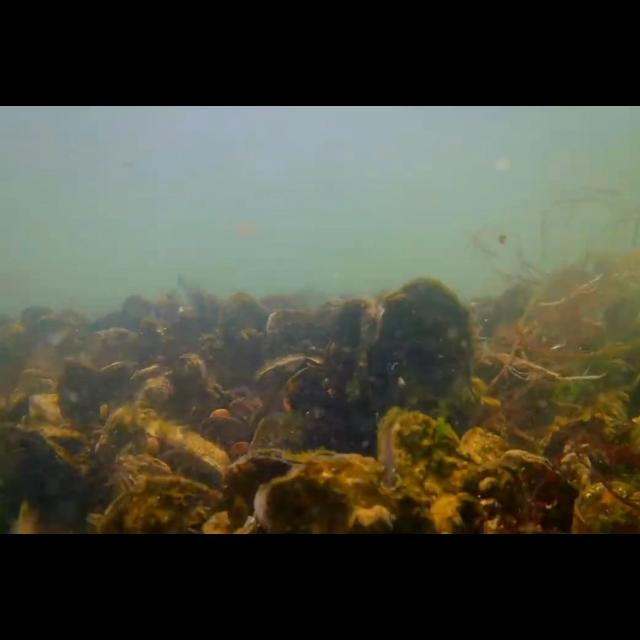Oyster-Closed: (379, 276, 473, 426), (0, 427, 86, 535), (478, 449, 580, 535), (325, 296, 385, 414), (247, 413, 313, 491), (95, 406, 149, 496), (56, 362, 110, 440), (458, 427, 512, 479), (170, 353, 208, 425), (176, 432, 230, 480), (116, 453, 172, 495), (0, 391, 28, 431)
Oyster-Open: (375, 408, 485, 534), (253, 356, 327, 416), (123, 364, 173, 408), (15, 367, 58, 395)
